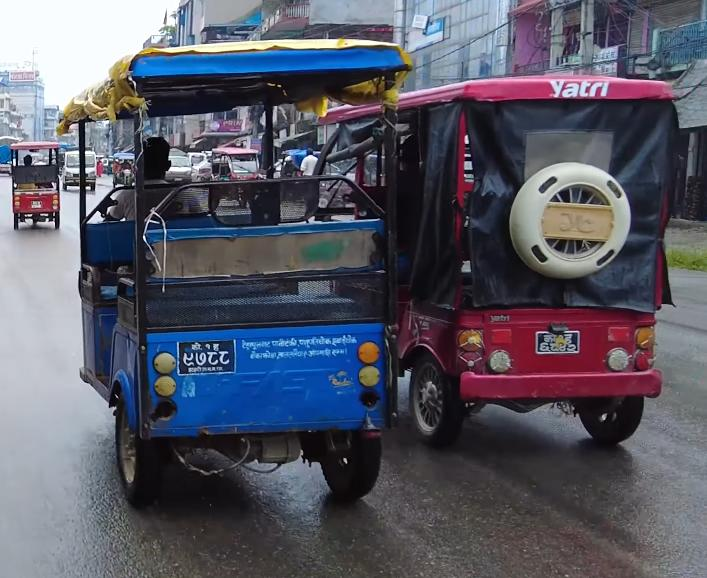e-rickshaw: (55, 30, 412, 520), (308, 58, 673, 445), (10, 135, 62, 230), (209, 144, 261, 202)
